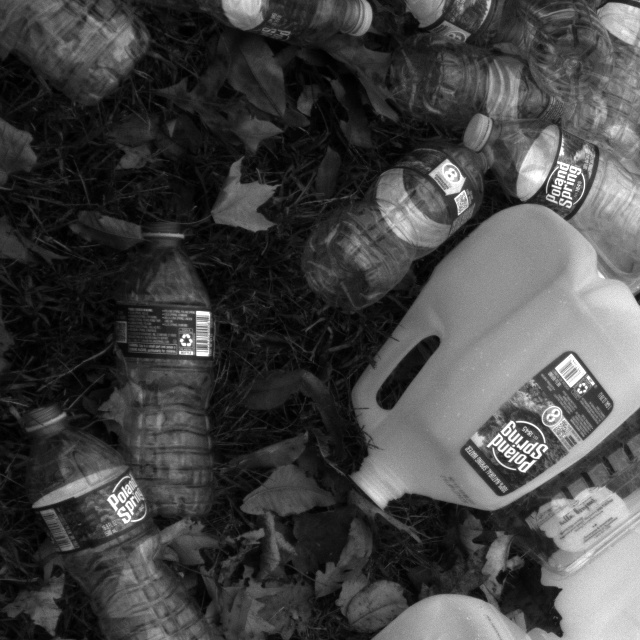bottle: (21, 405, 218, 640), (292, 131, 507, 316), (109, 216, 221, 517), (466, 108, 640, 277), (0, 0, 154, 107), (363, 53, 569, 125), (554, 0, 640, 159)
can: (344, 201, 640, 519), (534, 483, 640, 640)
